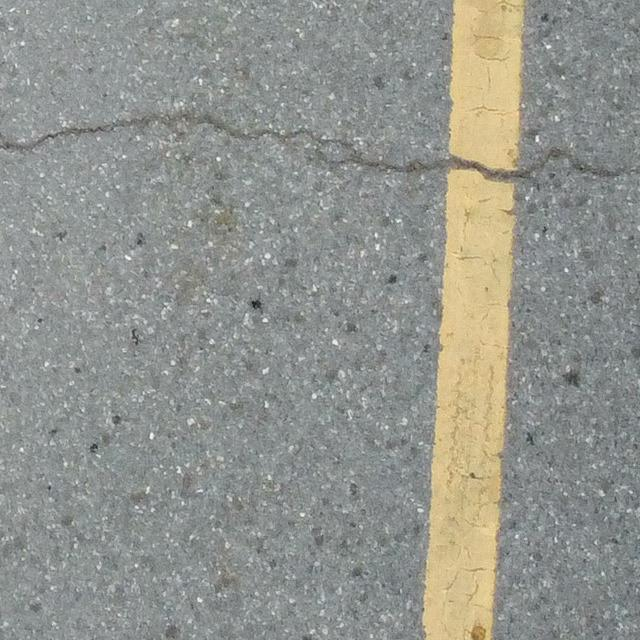TransverseCrack: (1, 115, 640, 183)
